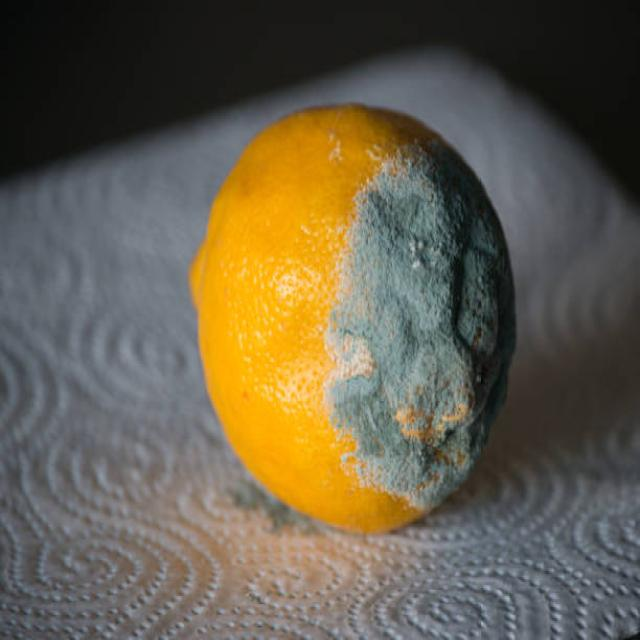Rotten: (187, 101, 518, 525)
